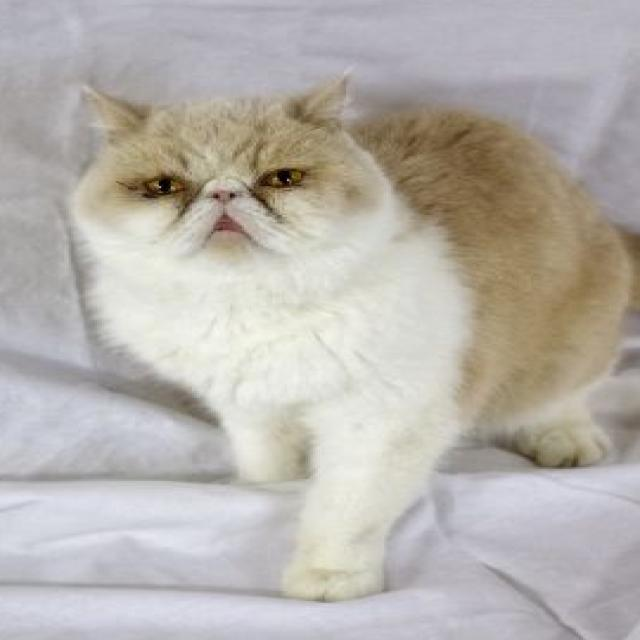Persian: (57, 68, 640, 610)
